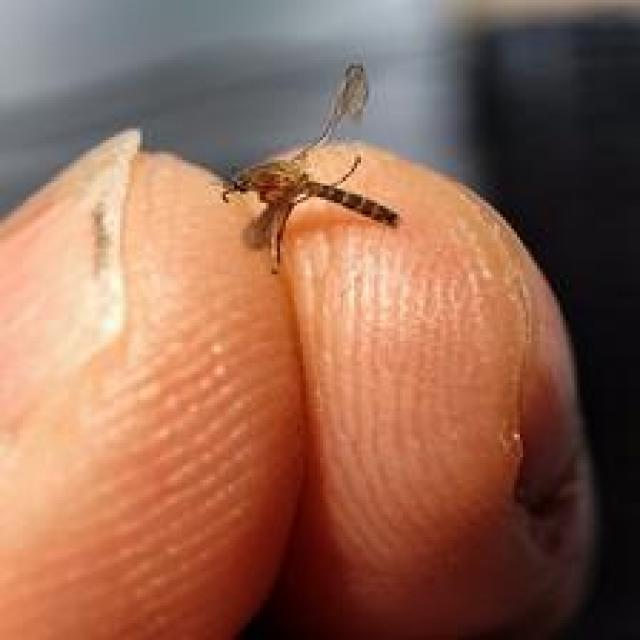Culex: (220, 60, 400, 274)
